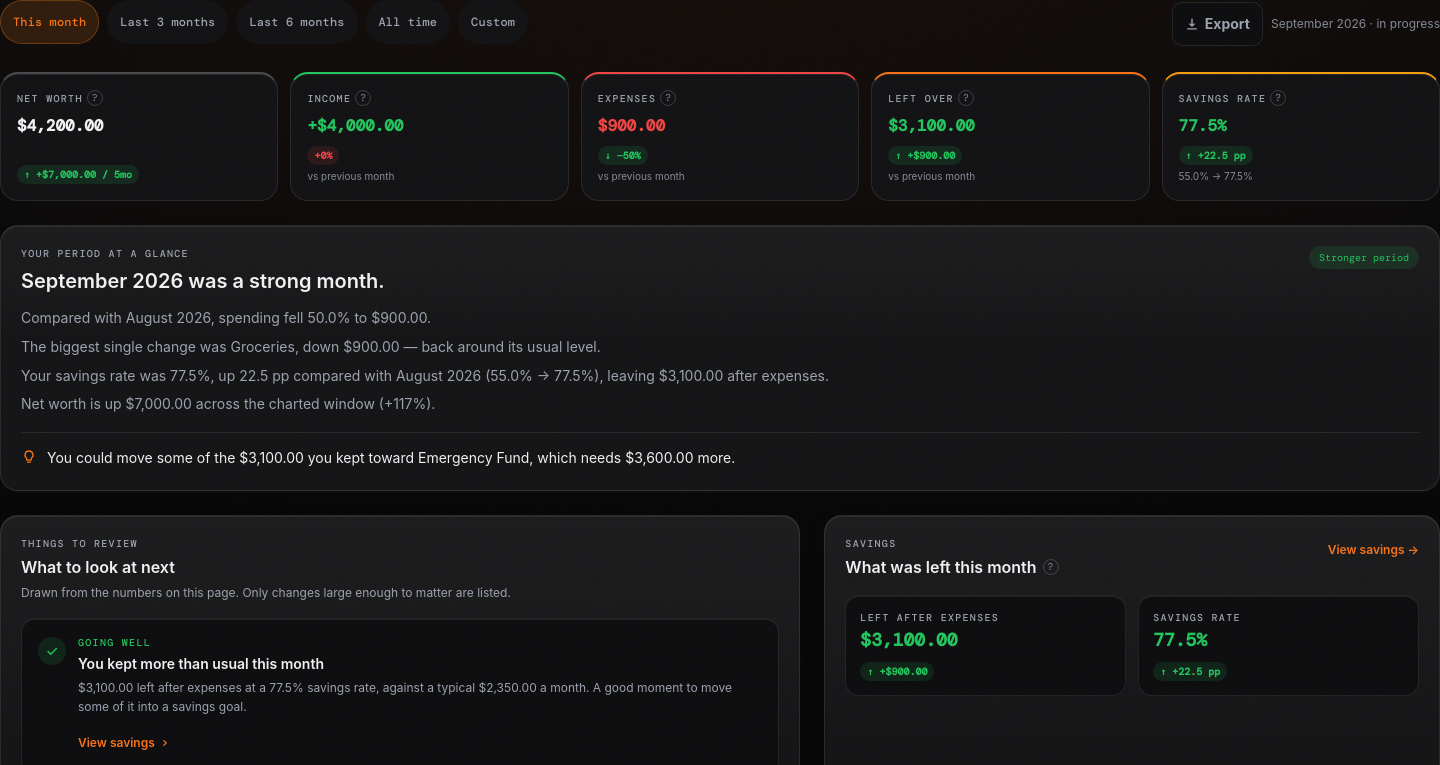
Test case: AnalyticsTab › changes the period and keeps every section on the new range
This screenshot has width=1440, height=765.
Click the button "Last 3 months".
click(168, 22)  # box [107, 0, 228, 44]
(page scrolled)
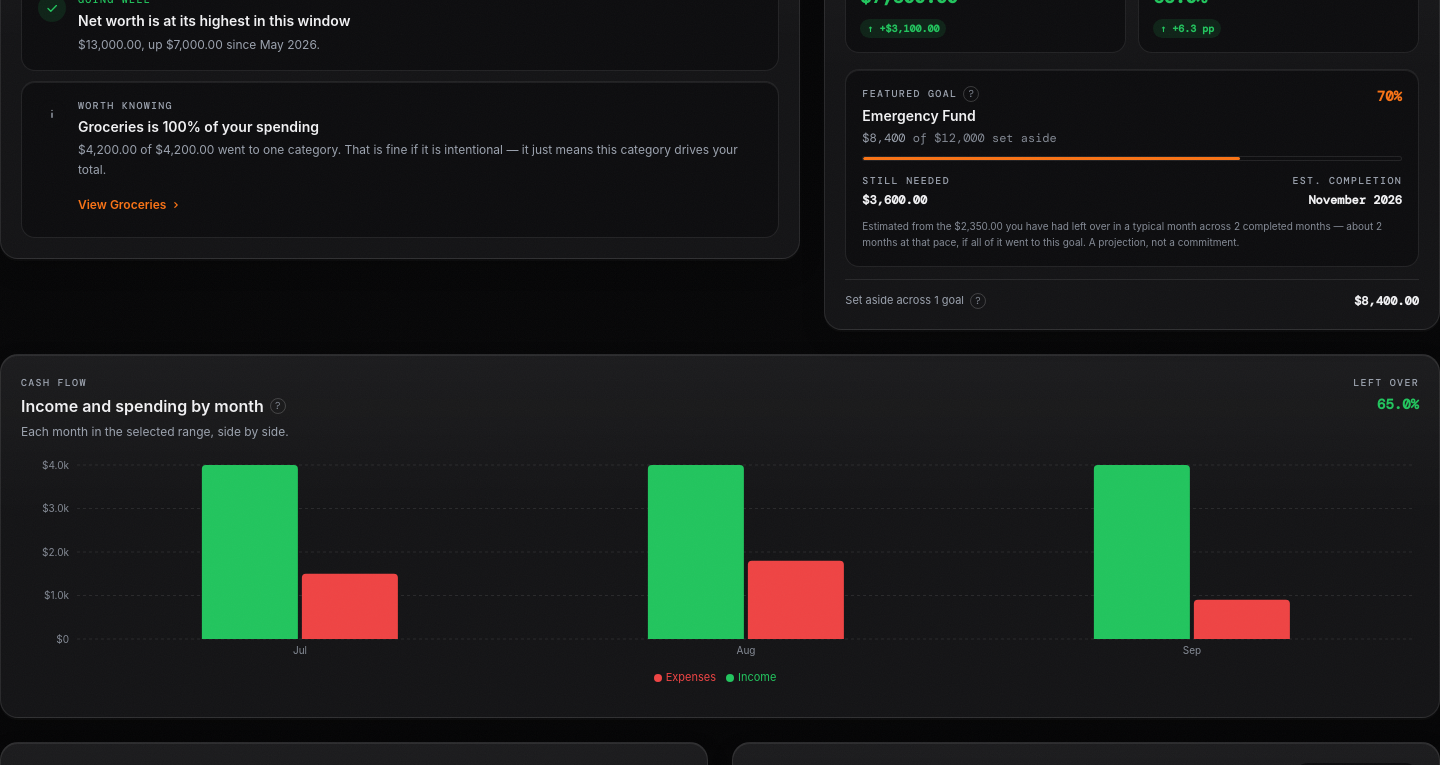
Result: the heading "Income and spending by month" is shown at [21, 394, 264, 418]
